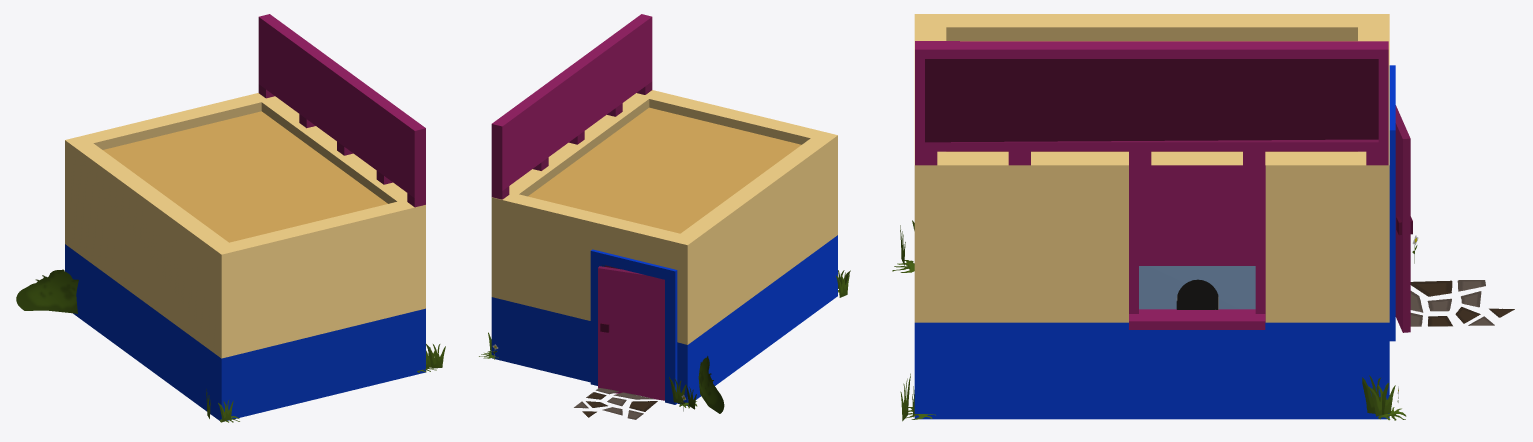
File: Store.fbx
3 views of the same model, side by side, from view 1: azimuth 30°, elevation 25°; view 2: azimuth 150°, elevation 25°; view 3: azimuth 270°, elevation 25° (orthographic). The views are drawn at different scales.
Parts seen in each view (by area): view 1: Gas_station.001; view 2: Gas_station.001; view 3: Gas_station.001.
Boxes of the visible parts, left/top/right/bottom form: Gas_station.001: left=16, top=14, right=445, bottom=422; Gas_station.001: left=479, top=14, right=850, bottom=419; Gas_station.001: left=892, top=14, right=1514, bottom=421.
Bounding box in the file's own units: 368 × 321 × 501.
